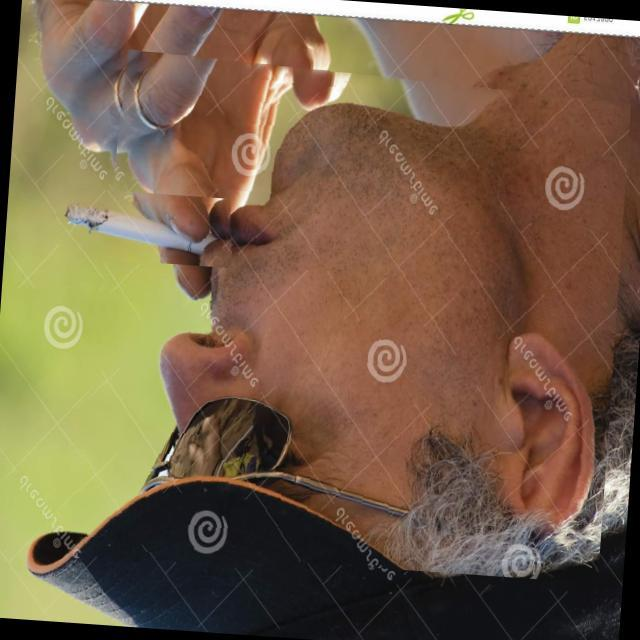cigarette: (52, 187, 236, 269)
